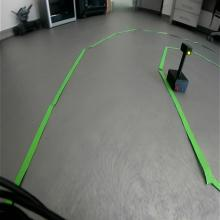green: (179, 40, 194, 56)
